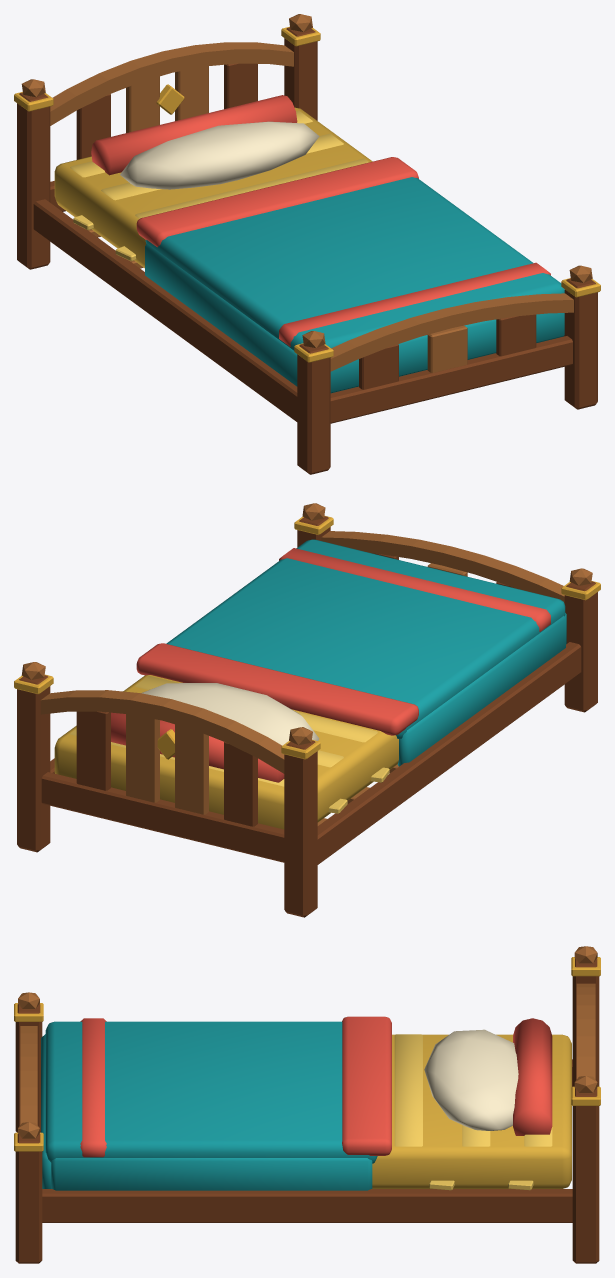
Rendered from build_bed.glb.
The picture shows the model from 3 angles, top to bottom: view 1: azimuth 30°, elevation 25°; view 2: azimuth 150°, elevation 25°; view 3: azimuth 270°, elevation 25°; orthographic projection.
Visible parts, largest first — view 1: BlanketAndPillow, BedFrame, StrawMattress; view 2: BlanketAndPillow, BedFrame, StrawMattress; view 3: BlanketAndPillow, BedFrame, StrawMattress.
Boxes of the visible parts, box(x1,y1,x2,y2) form: BlanketAndPillow: box(91, 95, 564, 393); BedFrame: box(14, 14, 600, 474); StrawMattress: box(54, 107, 372, 268); BlanketAndPillow: box(111, 539, 566, 782); BedFrame: box(14, 503, 600, 917); StrawMattress: box(54, 675, 398, 829); BlanketAndPillow: box(41, 1016, 552, 1190); BedFrame: box(14, 946, 600, 1263); StrawMattress: box(372, 1034, 571, 1190).
Bounding box in the file's own units: 1.2 × 0.72 × 2.09.
